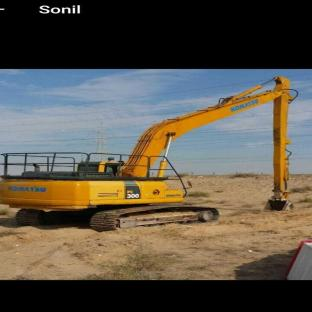ExcavationMachinery: (18, 86, 303, 223)
